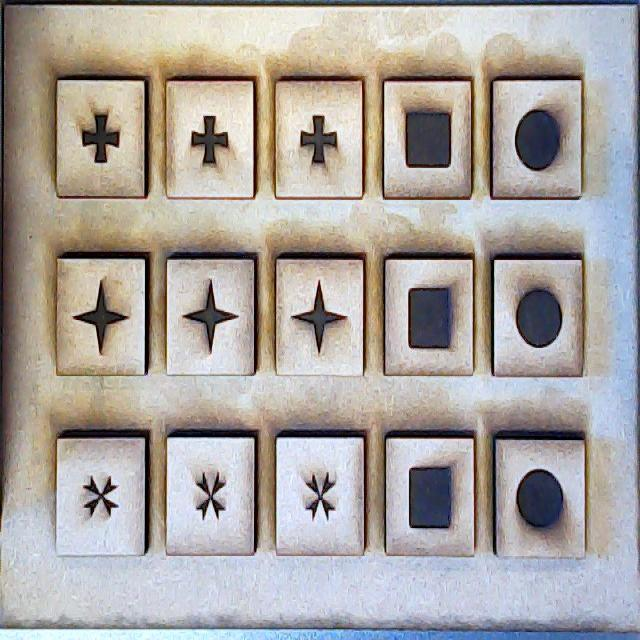circle: (494, 255, 586, 377), (492, 77, 581, 200), (495, 435, 585, 554)
maltese: (166, 433, 261, 557), (275, 434, 369, 555), (56, 435, 150, 549)
square: (384, 77, 474, 199), (386, 434, 476, 552), (386, 260, 474, 372)
star: (274, 258, 366, 380), (56, 260, 146, 376), (167, 260, 258, 372)
temple: (164, 79, 255, 199), (271, 78, 364, 194), (56, 82, 148, 198)
